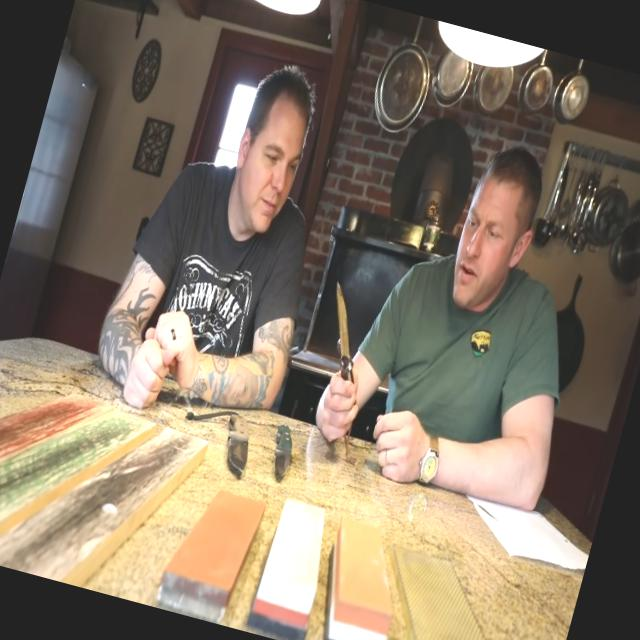knife: (292, 266, 394, 438)
